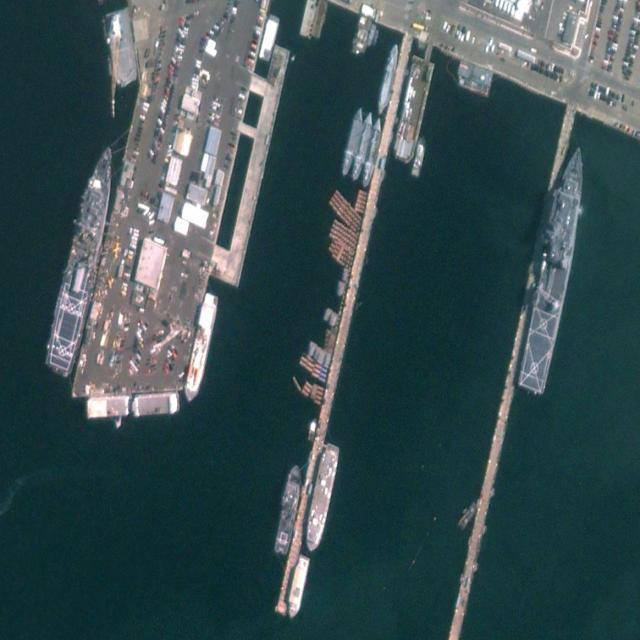Landing: (512, 139, 595, 396), (41, 137, 124, 379)
Other Ship: (300, 439, 342, 556), (271, 460, 305, 557), (338, 103, 367, 180), (373, 42, 402, 118), (349, 110, 376, 186), (358, 116, 385, 192), (410, 139, 428, 182)
